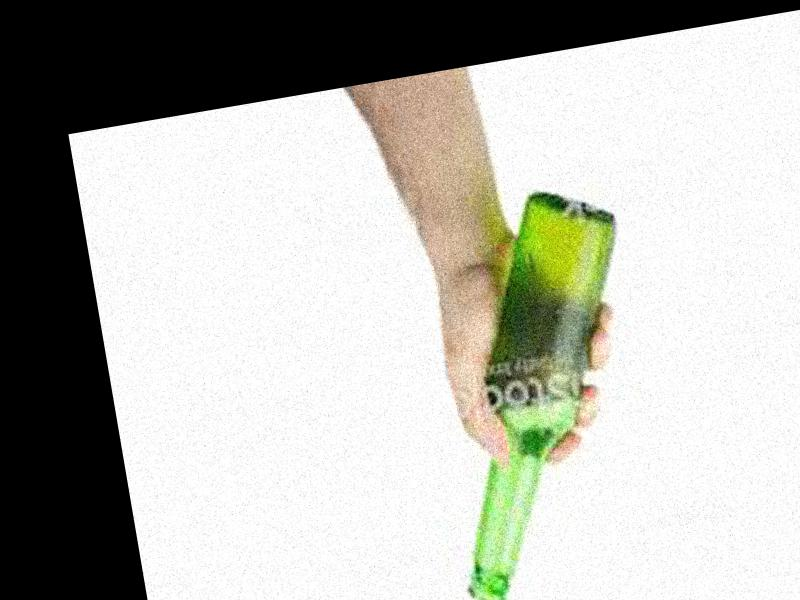Beer: (404, 184, 677, 600)
